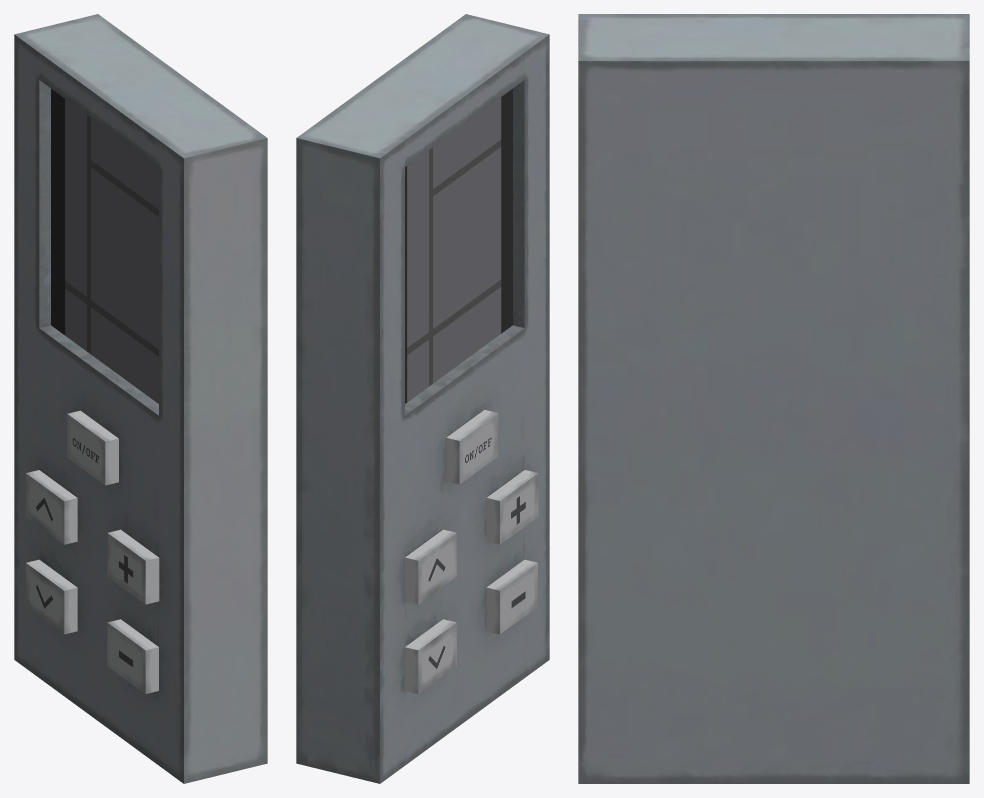
The model's file is M_Bedroom_RemoteAC.fbx.
The picture shows the model from 3 angles, left to right: view 1: azimuth 30°, elevation 25°; view 2: azimuth 150°, elevation 25°; view 3: azimuth 270°, elevation 25°; orthographic projection. The views are drawn at different scales.
Parts seen in each view (by area): view 1: RemoteAC; view 2: RemoteAC; view 3: RemoteAC.
Part boxes in pixels (left/top/right/bottom): RemoteAC: left=14, top=14, right=267, bottom=783; RemoteAC: left=296, top=14, right=549, bottom=783; RemoteAC: left=578, top=14, right=969, bottom=783.
Bounding box in the file's own units: 2.81 × 17.34 × 8.51.
